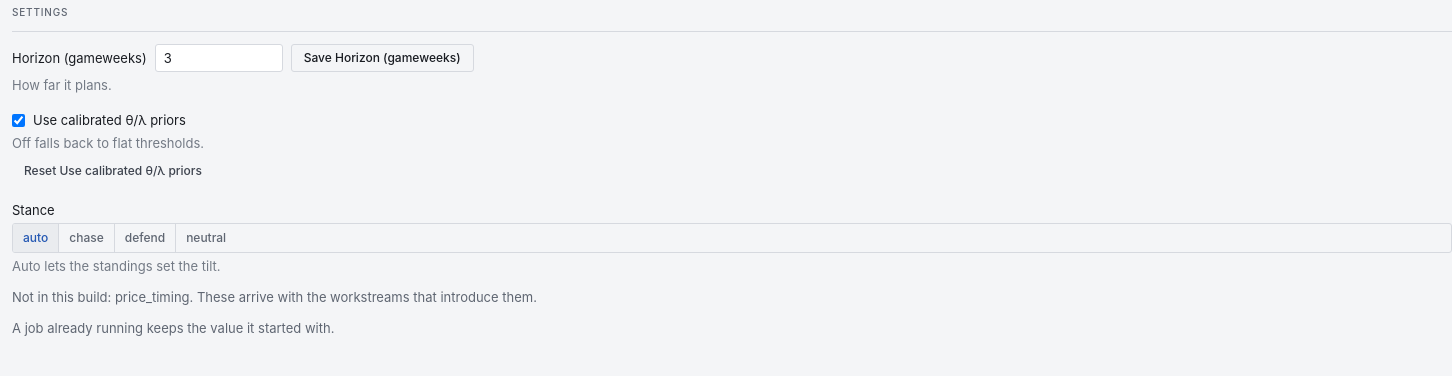
Test: SettingsTab › tells a screen reader which field was refused and where to read why
Click the button "Save Horizon (gameweeks)". click: point(382, 58)
box: [291,44,474,72]
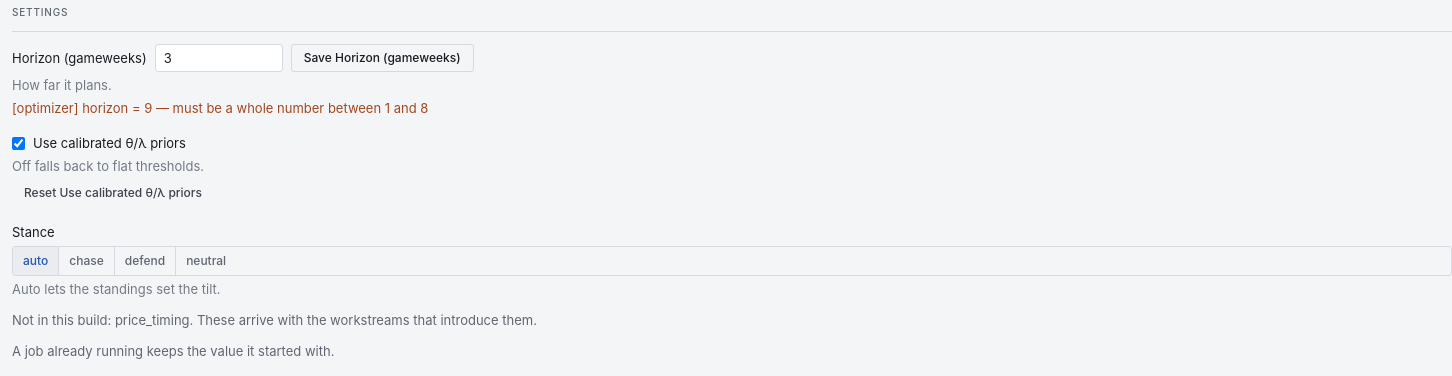
Check: the message with id "settings-error-horizon" shows "between 1 and 8", box [12,100,428,116]
